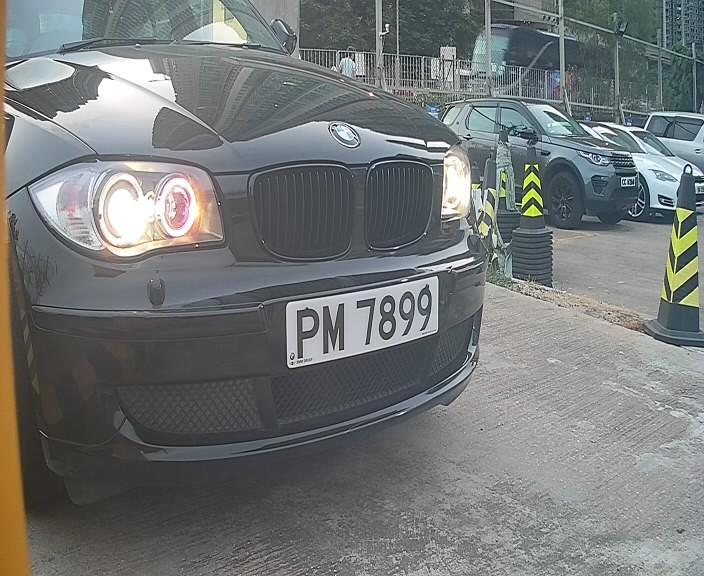privatecar: (10, 16, 535, 461)
